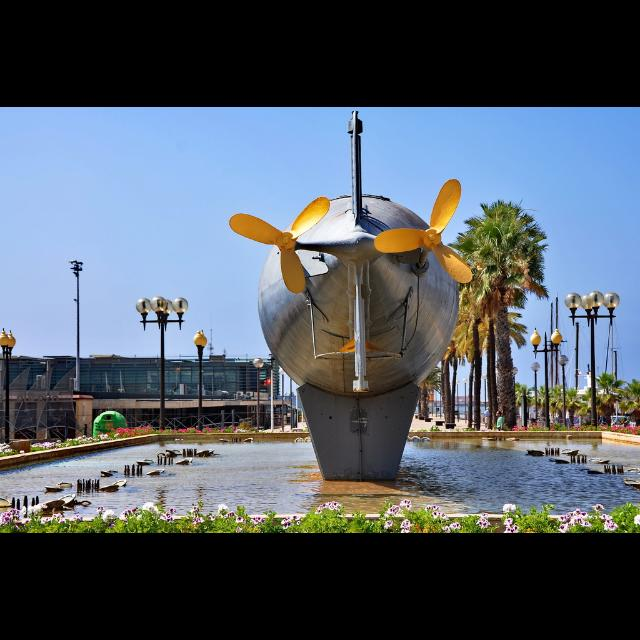Flower: (385, 498, 459, 532), (228, 508, 300, 532), (558, 504, 616, 530), (478, 504, 528, 532), (118, 498, 176, 522), (1, 500, 62, 522), (186, 504, 224, 524), (317, 497, 343, 513), (97, 504, 115, 520), (70, 512, 82, 522), (632, 514, 638, 524)
